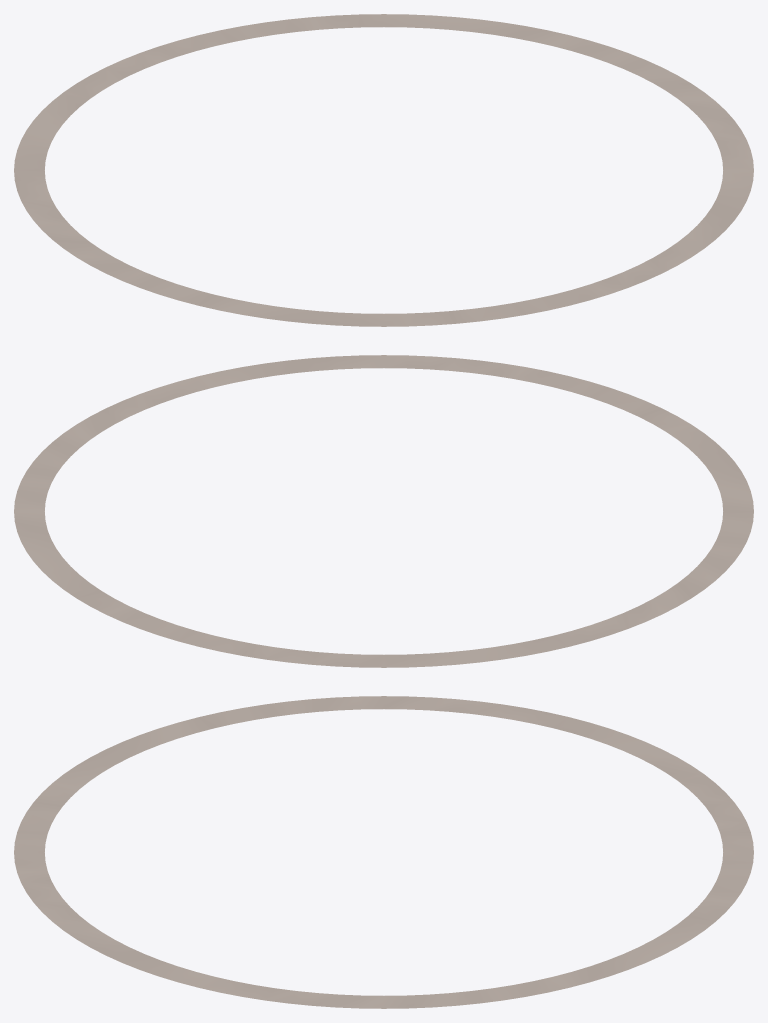
The model's file is altar-ring.glb.
3 views of the same model, one above another, from view 1: azimuth 30°, elevation 25°; view 2: azimuth 150°, elevation 25°; view 3: azimuth 270°, elevation 25° (orthographic).
Visible parts, largest first — view 1: Claim radius; view 2: Claim radius; view 3: Claim radius.
Boxes of the visible parts, bbox=[...] form: Claim radius: bbox=[14, 14, 753, 326]; Claim radius: bbox=[14, 355, 753, 667]; Claim radius: bbox=[14, 696, 753, 1008].
Size of the model in its own units: 6 by 0 by 6.
